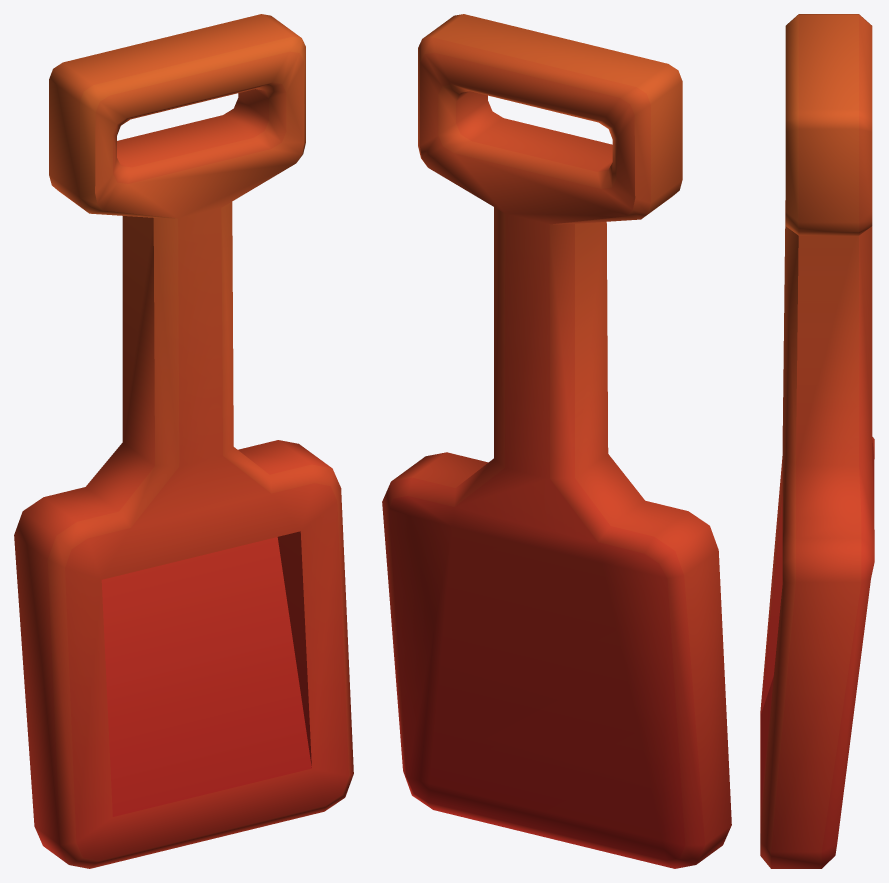
File: shovel_A.glb
3 renders of one model, left to right at view 1: azimuth 30°, elevation 25°; view 2: azimuth 150°, elevation 25°; view 3: azimuth 270°, elevation 25°, orthographic. The views are drawn at different scales.
Visible parts, largest first — view 1: shovel_A; view 2: shovel_A; view 3: shovel_A.
Part boxes in pixels (x1,y1,x2,y2): shovel_A: [14, 14, 353, 868]; shovel_A: [382, 14, 731, 868]; shovel_A: [760, 14, 874, 868].
Bounding box in the file's own units: 0.35 × 0.8764 × 0.1211.
Materials: 1 (1 with a texture image).
